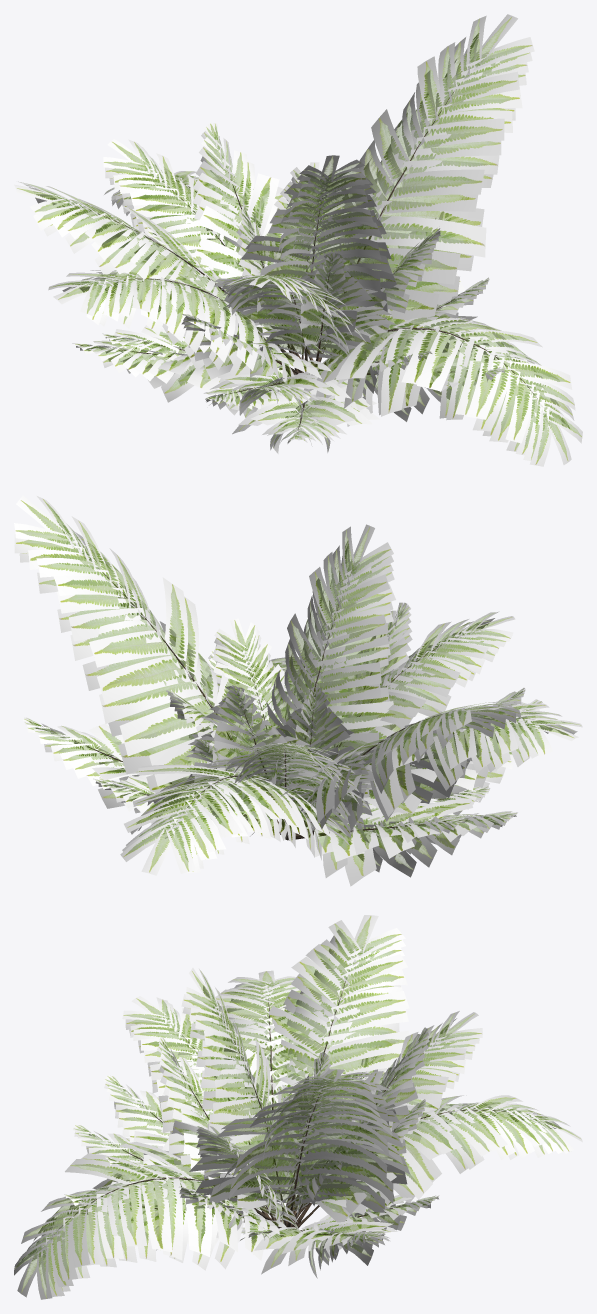
File: preview.glb
3 renders of one model, top to bottom at view 1: azimuth 30°, elevation 25°; view 2: azimuth 150°, elevation 25°; view 3: azimuth 270°, elevation 25°, orthographic. The views are drawn at different scales.
Visible parts, largest first — view 1: Plant_Dryopteris_carthusiana_A_Leaf_glb, Plant_Dryopteris_carthusiana_A_Stem_glb; view 2: Plant_Dryopteris_carthusiana_A_Leaf_glb, Plant_Dryopteris_carthusiana_A_Stem_glb; view 3: Plant_Dryopteris_carthusiana_A_Leaf_glb, Plant_Dryopteris_carthusiana_A_Stem_glb.
Boxes of the visible parts, x1=… form: Plant_Dryopteris_carthusiana_A_Leaf_glb: x1=14, y1=14, x2=582, y2=466; Plant_Dryopteris_carthusiana_A_Stem_glb: x1=90, y1=84, x2=537, y2=429; Plant_Dryopteris_carthusiana_A_Leaf_glb: x1=14, y1=495, x2=582, y2=886; Plant_Dryopteris_carthusiana_A_Stem_glb: x1=72, y1=560, x2=493, y2=840; Plant_Dryopteris_carthusiana_A_Leaf_glb: x1=14, y1=915, x2=582, y2=1299; Plant_Dryopteris_carthusiana_A_Stem_glb: x1=54, y1=970, x2=513, y2=1236.
Bounding box in the file's own units: 1.35 × 0.7743 × 1.44.
Materials: 2 (2 with a texture image).
